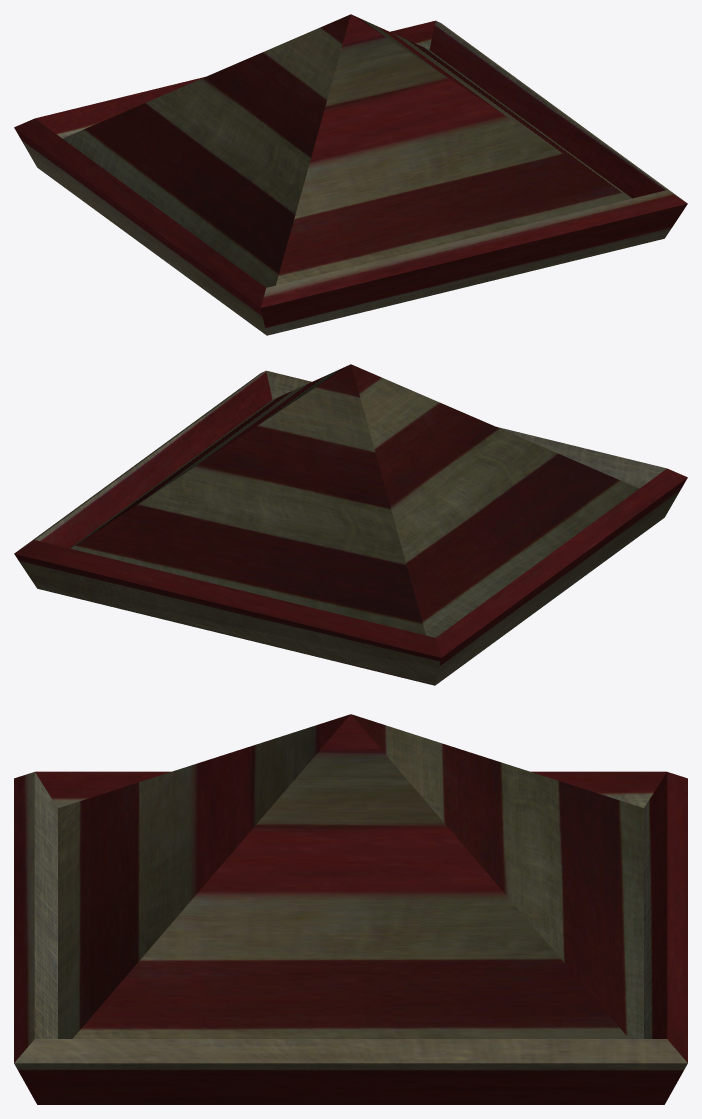
Rendered from booth.fbx.
3 views of the same model, one above another, from view 1: azimuth 30°, elevation 25°; view 2: azimuth 150°, elevation 25°; view 3: azimuth 270°, elevation 25° (orthographic). The views are drawn at different scales.
Parts seen in each view (by area): view 1: pCube1; view 2: pCube1; view 3: pCube1.
Boxes of the visible parts, x1=… form: pCube1: x1=14, y1=14, x2=687, y2=335; pCube1: x1=14, y1=364, x2=687, y2=685; pCube1: x1=14, y1=714, x2=687, y2=1104.
Size of the model in its own units: 46.01 by 19.45 by 46.01.
Materials: 1 (1 with a texture image).
